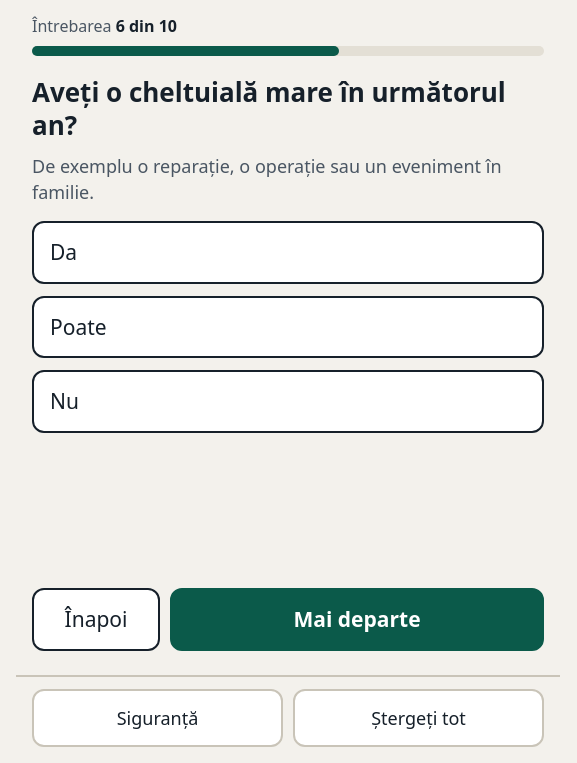
lista de locuri › totalul orientativ › doar lei: fara nicio mentiune despre curs
What coordinates should you click on to do the following:
click the button "Înapoi"
I would click on:
 (96, 620)
Its box is [32,588,160,651].
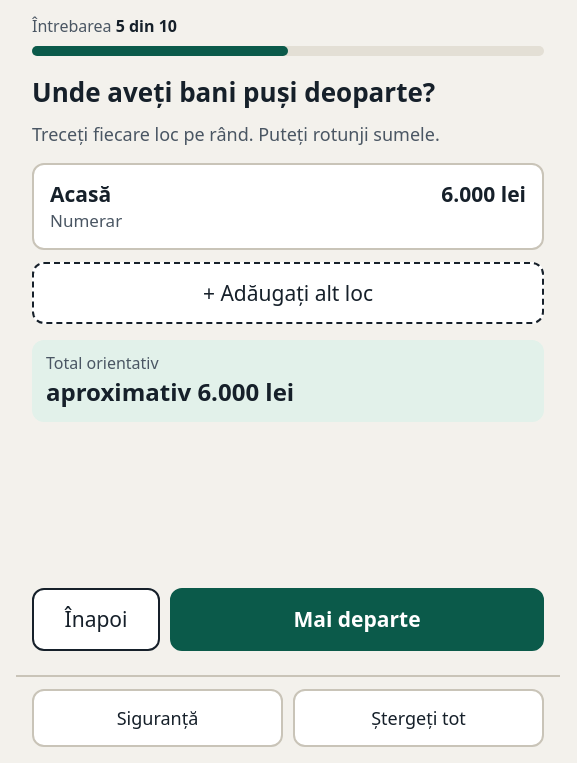
Now the text "aproximativ 6.000 lei" is shown, box [46,376,294,408]
